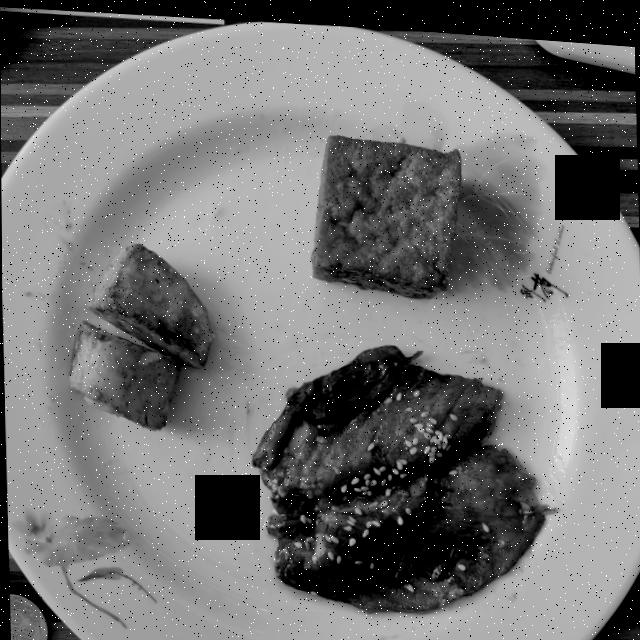Kabayaki sea bream fillet: (252, 338, 551, 606)
coin: (8, 593, 47, 640)
egg tofu: (311, 129, 462, 291)
fried potato: (69, 241, 212, 427)
